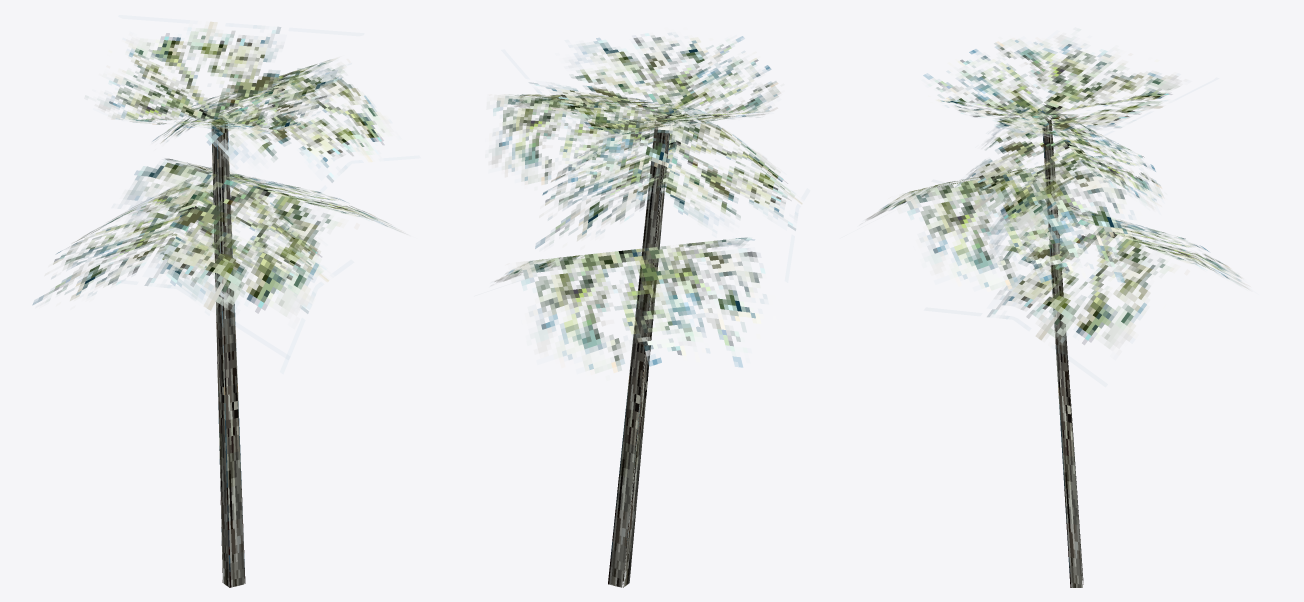
The model's file is Environment - Debris and Ruins - Rubble Mound - Debris - PTXFIR07.glb.
3 renders of one model, left to right at view 1: azimuth 30°, elevation 25°; view 2: azimuth 150°, elevation 25°; view 3: azimuth 270°, elevation 25°, orthographic. The views are drawn at different scales.
Parts seen in each view (by area): view 1: PTXFIR07; view 2: PTXFIR07; view 3: PTXFIR07.
Boxes of the visible parts, <box> form: PTXFIR07: <box>33,21,409,587</box>; PTXFIR07: <box>485,33,802,587</box>; PTXFIR07: <box>862,27,1252,587</box>.
Bounding box in the file's own units: 32.23 × 46.14 × 38.59.
Materials: 1 (1 with a texture image).
